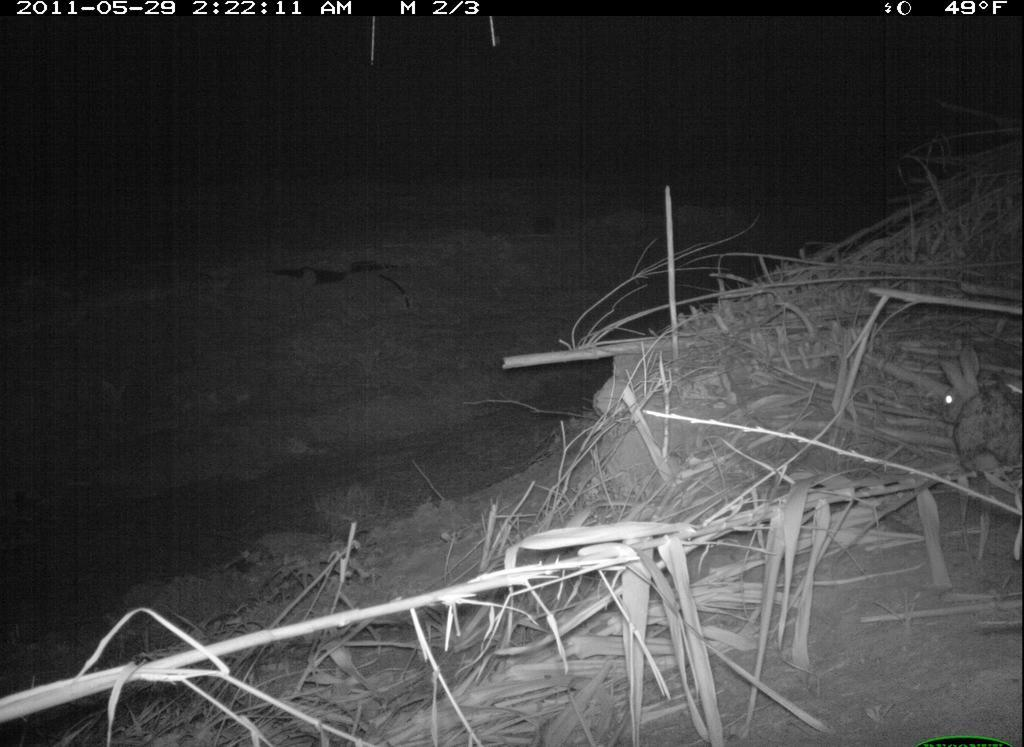rabbit: (937, 333, 1023, 482)
